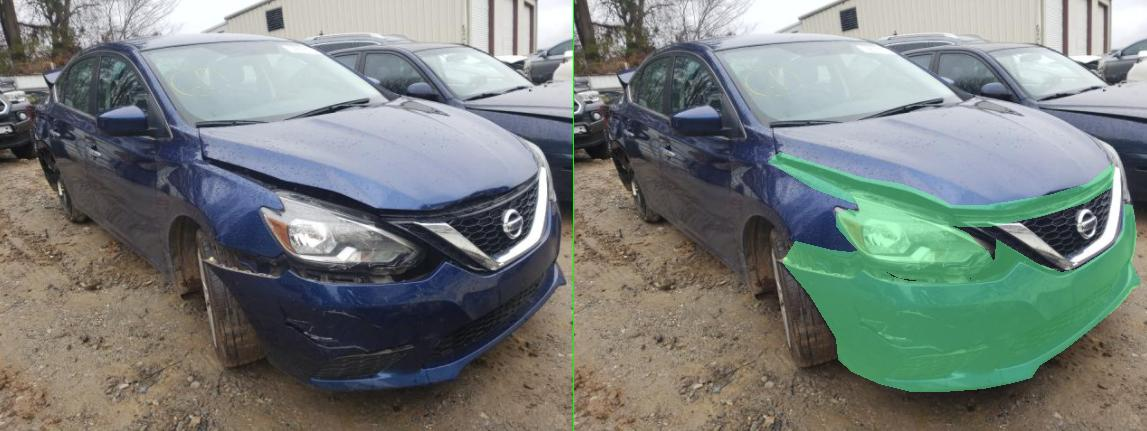Broken part: (416, 204, 1133, 391), (388, 152, 1079, 226), (524, 190, 837, 281)
